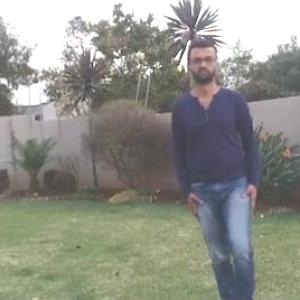follow: (170, 18, 267, 299)
